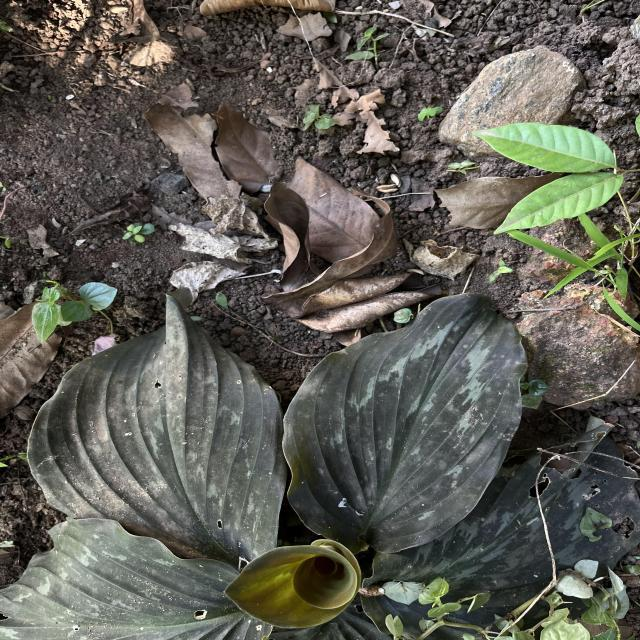Kaempferia galanga linn: (24, 283, 288, 561), (278, 290, 532, 556)
